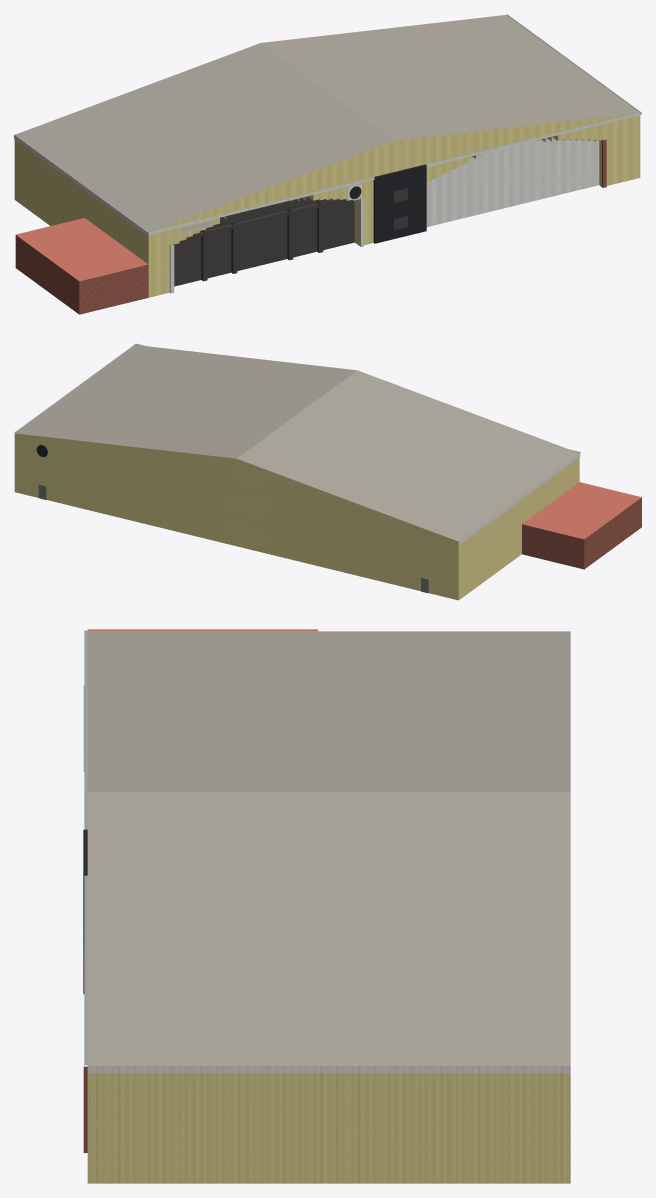
Rendered from cyxd_hangar4_lod1.gltf.
3 renders of one model, top to bottom at view 1: azimuth 30°, elevation 25°; view 2: azimuth 150°, elevation 25°; view 3: azimuth 270°, elevation 25°, orthographic. The views are drawn at different scales.
Visible parts, largest first — view 1: cyxd_hangar4; view 2: cyxd_hangar4; view 3: cyxd_hangar4.
Part boxes in pixels (box(x1,y1,x2,y2)): cyxd_hangar4: box(14, 14, 641, 314); cyxd_hangar4: box(14, 343, 641, 600); cyxd_hangar4: box(83, 629, 570, 1183).
Bounding box in the file's own units: 81.22 × 13.4 × 33.99.
